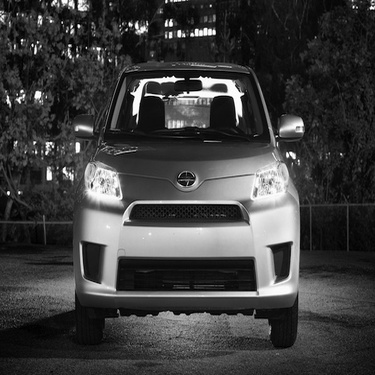car: (44, 44, 317, 340)
